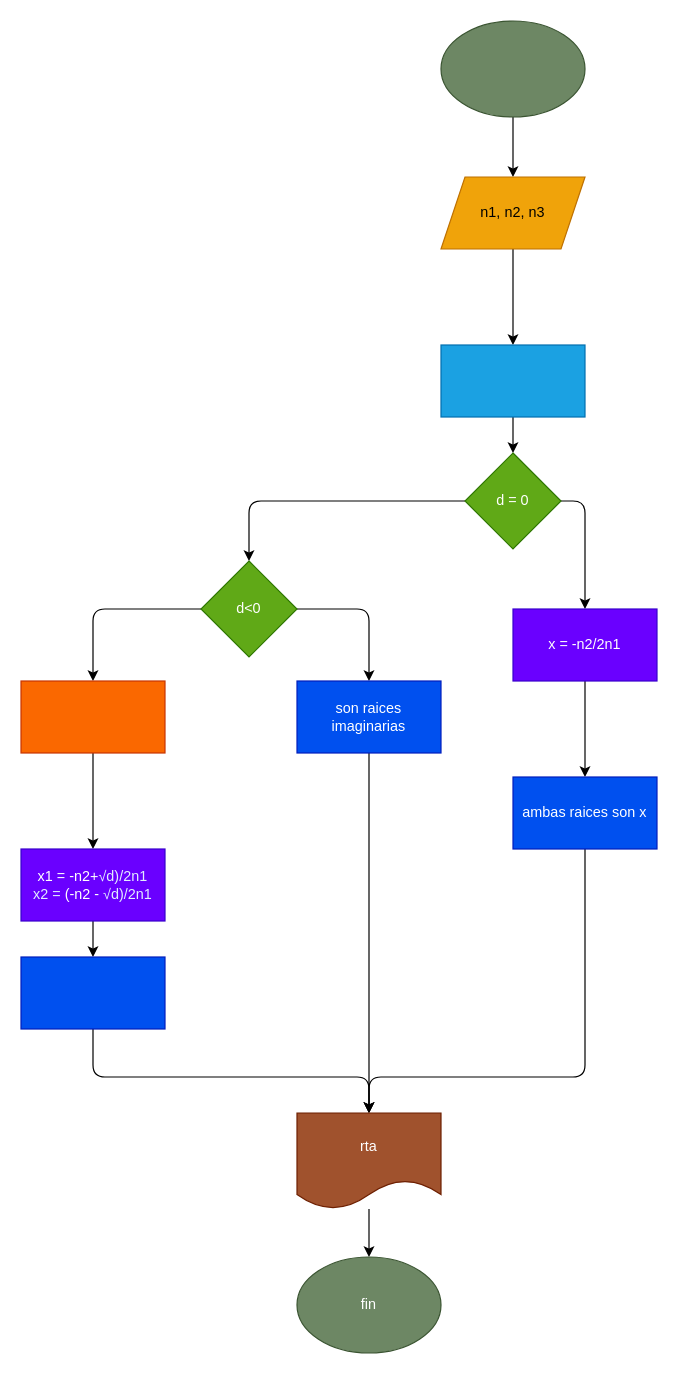
Some shapes in this 678 by 1374 pixel diagram are drawn without their labels. The shapes that lost their labels are listed below. From the top down, each one's box as (x1, y1, x2, y2) in pixels, then its label:
(440, 20, 585, 117): inicio
(440, 344, 585, 417): d = n2^2-4n1n2
(20, 680, 165, 753): d >0
(20, 956, 165, 1029): las raices son x1 && x2
